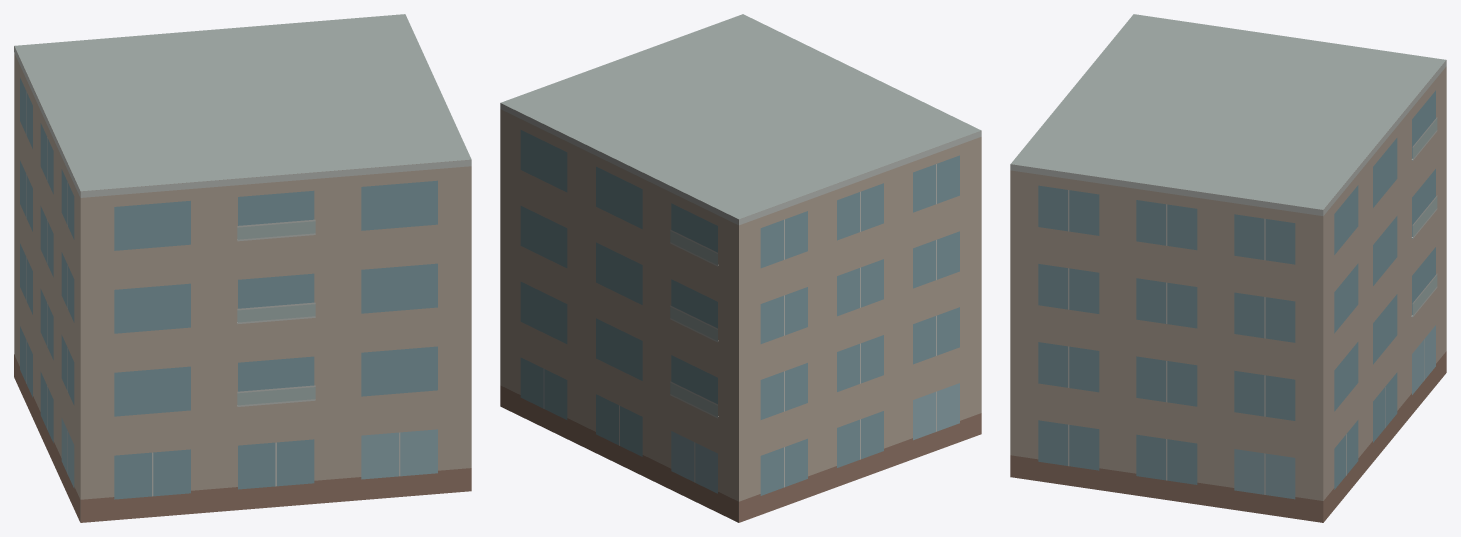
Rendered from residential-61a4cf19-967d-451d-8c27-363b220dbb95.glb.
The picture shows the model from 3 angles, left to right: view 1: azimuth 30°, elevation 25°; view 2: azimuth 150°, elevation 25°; view 3: azimuth 270°, elevation 25°; orthographic projection. The views are drawn at different scales.
Visible parts, largest first — view 1: residential-61a4cf19-967d-451d-8c27-363b220dbb95.tmp; view 2: residential-61a4cf19-967d-451d-8c27-363b220dbb95.tmp; view 3: residential-61a4cf19-967d-451d-8c27-363b220dbb95.tmp.
Boxes of the visible parts, bbox=[...] form: residential-61a4cf19-967d-451d-8c27-363b220dbb95.tmp: bbox=[14, 14, 471, 522]; residential-61a4cf19-967d-451d-8c27-363b220dbb95.tmp: bbox=[500, 14, 981, 522]; residential-61a4cf19-967d-451d-8c27-363b220dbb95.tmp: bbox=[1010, 14, 1446, 522].
Bounding box in the file's own units: 16.39 × 12.2 × 15.42.
